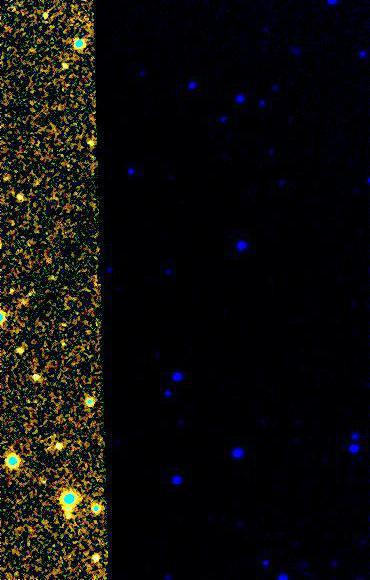star: (49, 55, 79, 85)
